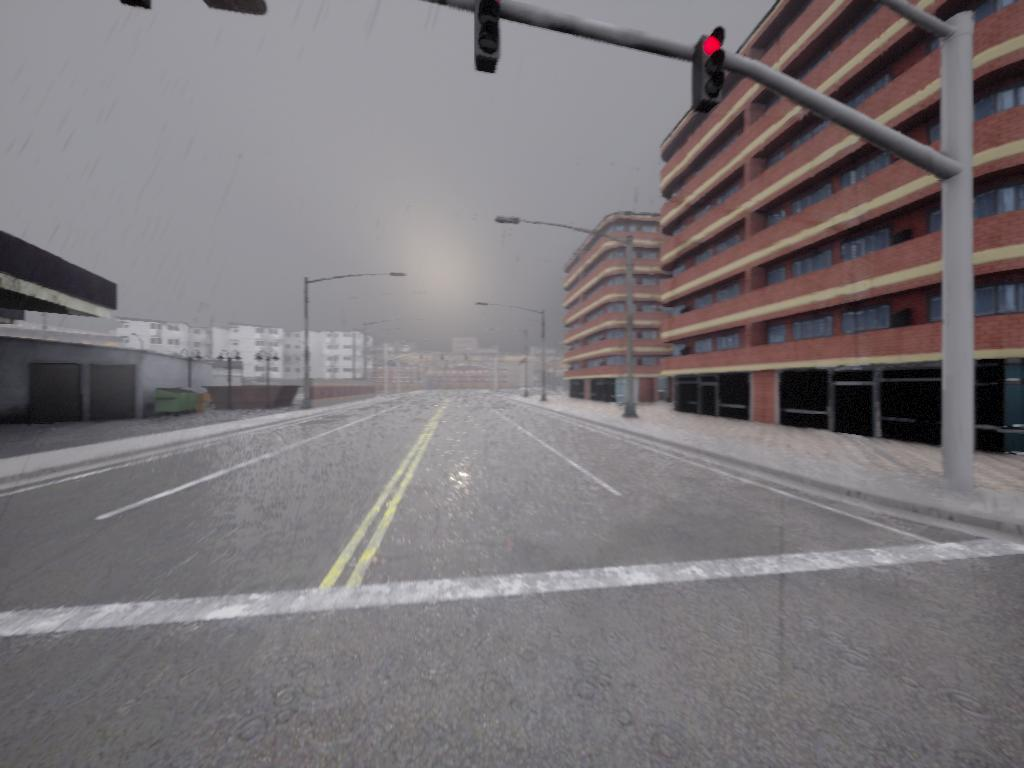traffic_light: (695, 31, 728, 107), (476, 3, 505, 71), (464, 354, 468, 362), (420, 354, 424, 361), (441, 355, 445, 362)
